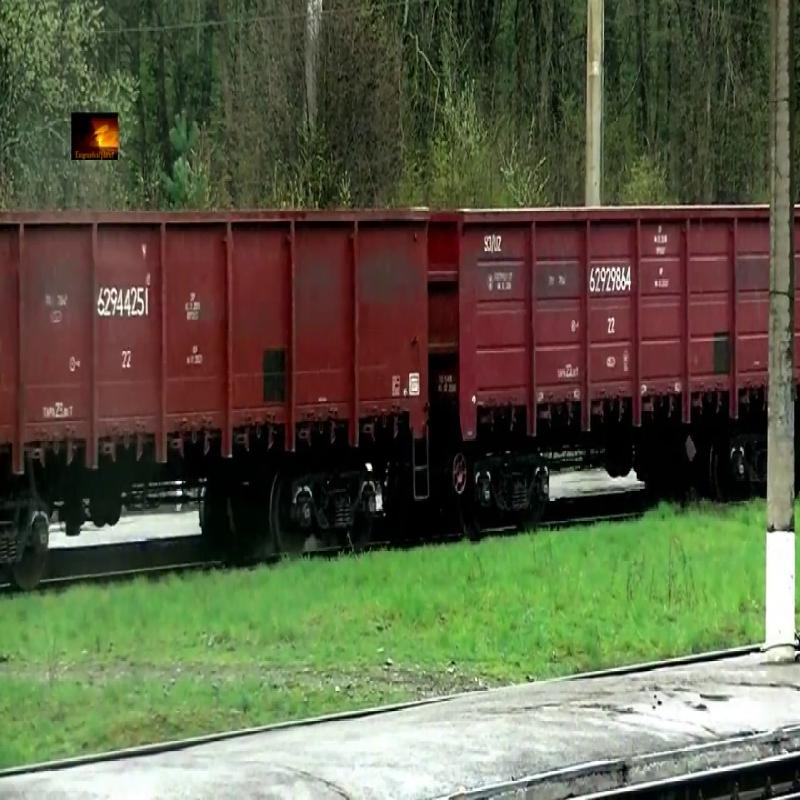train: (1, 208, 430, 473), (432, 207, 772, 442)
